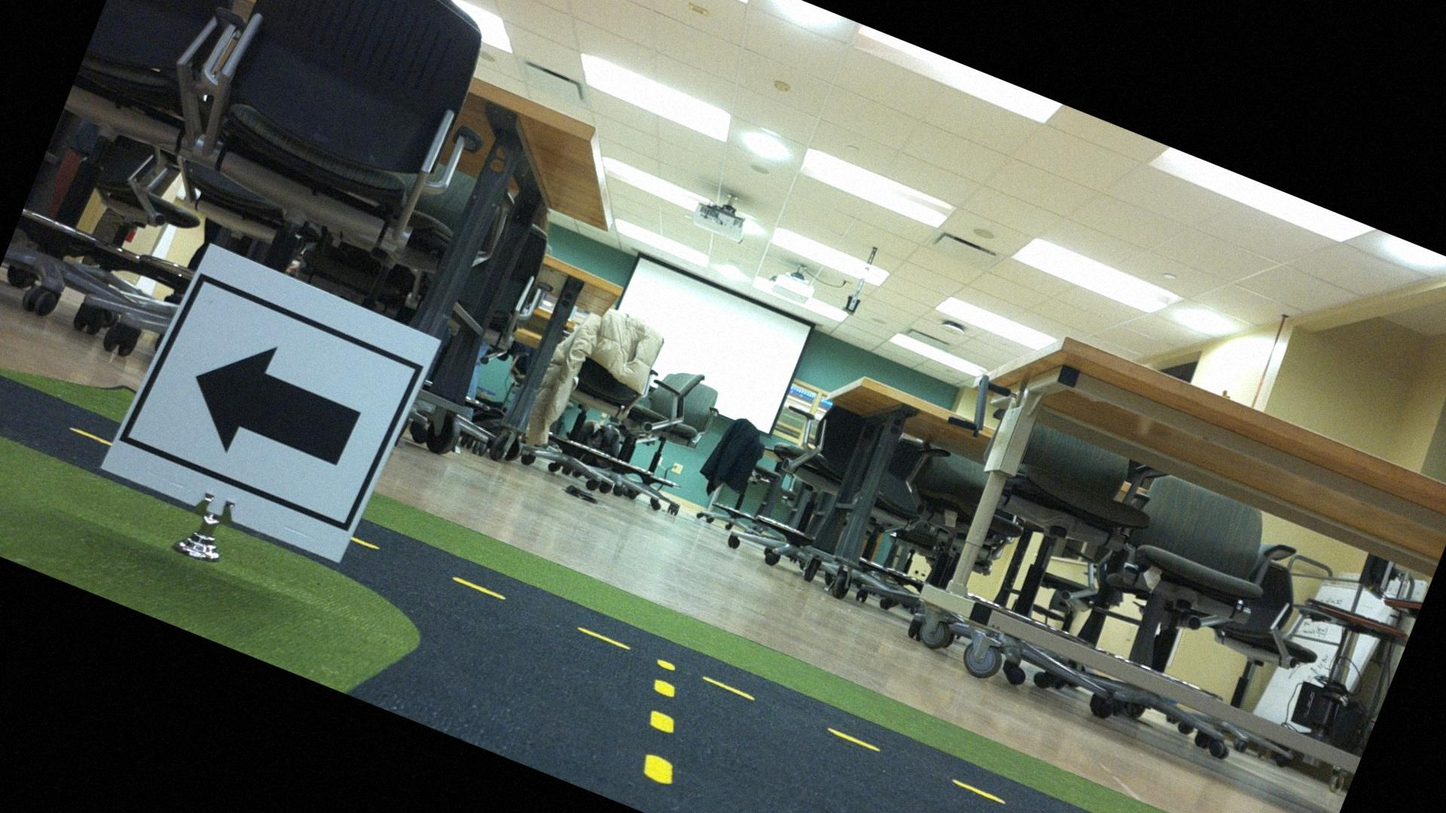turnleft: (117, 246, 432, 550)
yellowline: (362, 538, 1261, 812), (618, 674, 706, 789)
